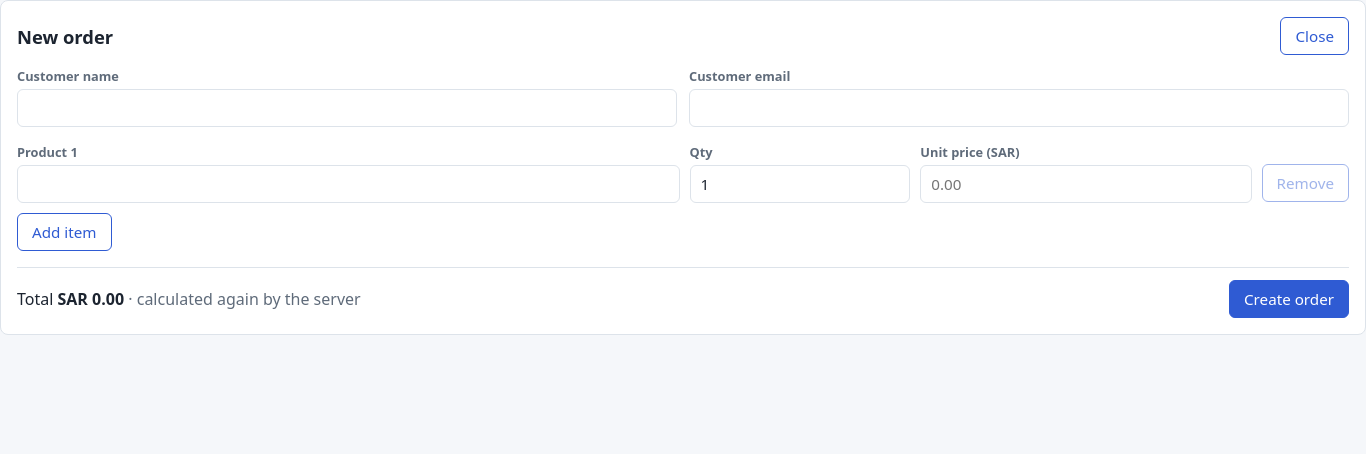
CreateOrderForm › after an uncertain failure, locks the form and retries with the SAME key and payload
Type "Sara Ali" into the field labelled "Customer name".
click(347, 108); type("Sara Ali")  # box [17,89,677,127]
Type "sara@example.com" into the field labelled "Customer email".
click(1019, 108); type("sara@example.com")  # box [689,89,1349,127]
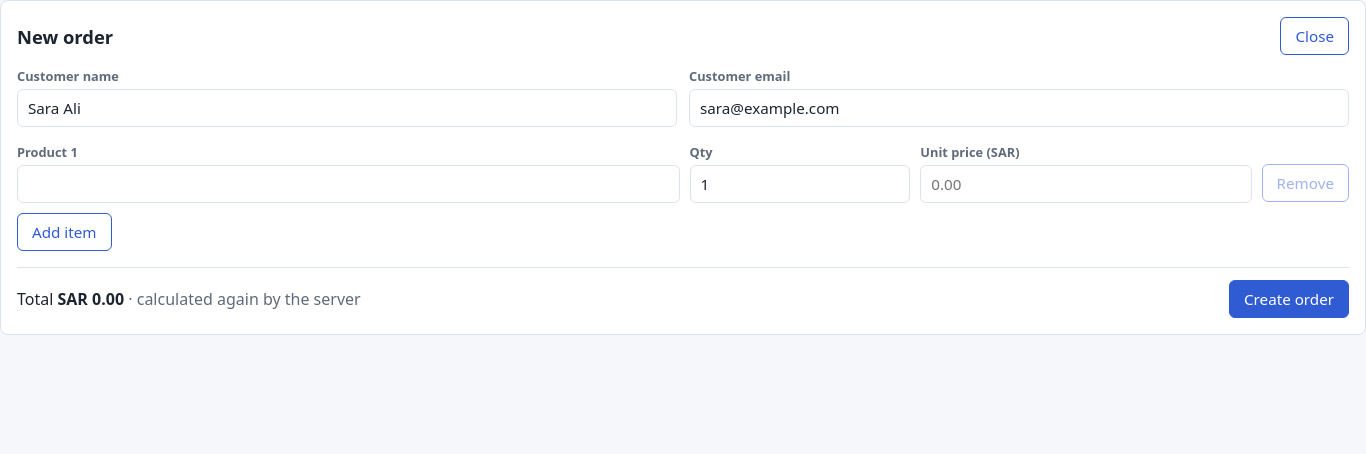
Type "Mouse" into the field labelled "Product 1".
click(348, 184); type("Mouse")  # box [17,165,680,203]
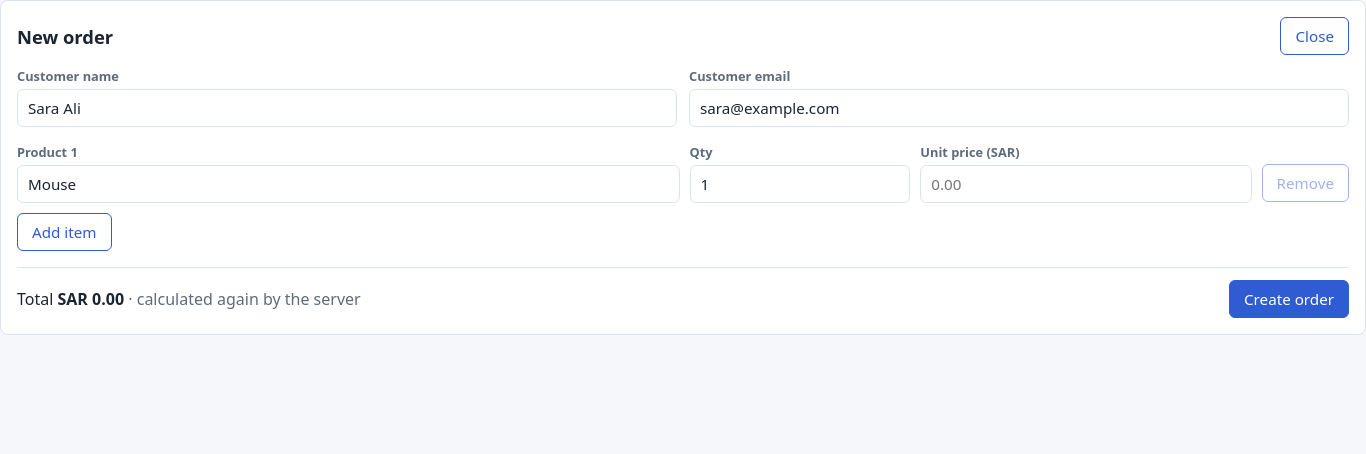
Replace the text in the field labelled "Qty" with "2" at (800, 184), box [690,165,910,203]
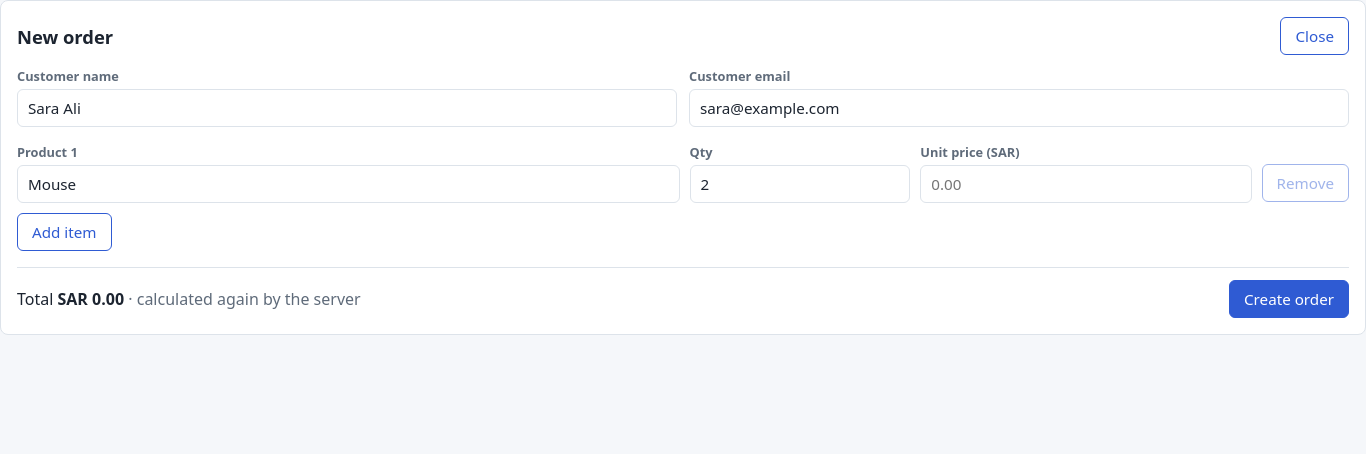
Type "24.99" into the field labelled "Unit price (SAR)".
click(1086, 184); type("24.99")  # box [920,165,1252,203]
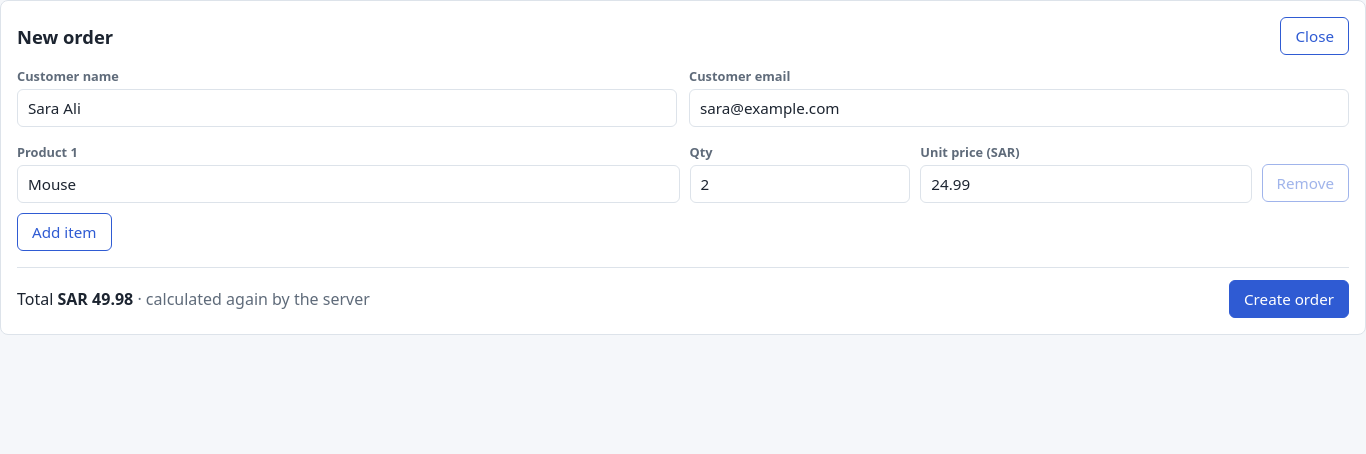
Click the button "Create order".
click(1289, 299)  # box [1229,280,1349,318]
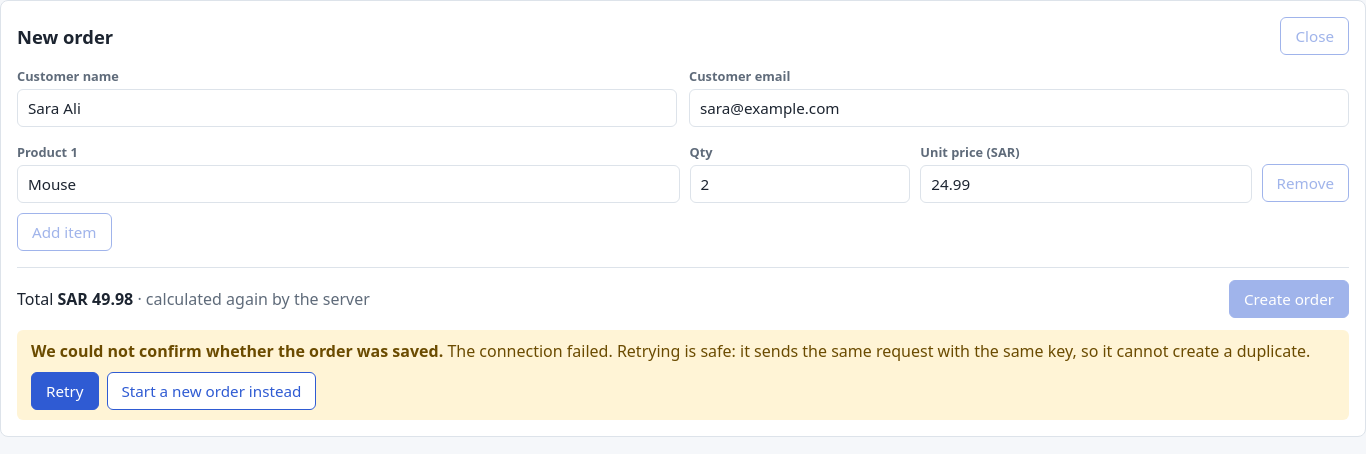
Expected: the message shows "could not confirm whether the order was saved", [31,340,443,362]
Click the button "Retry".
click(65, 391)  # box [31,372,98,410]
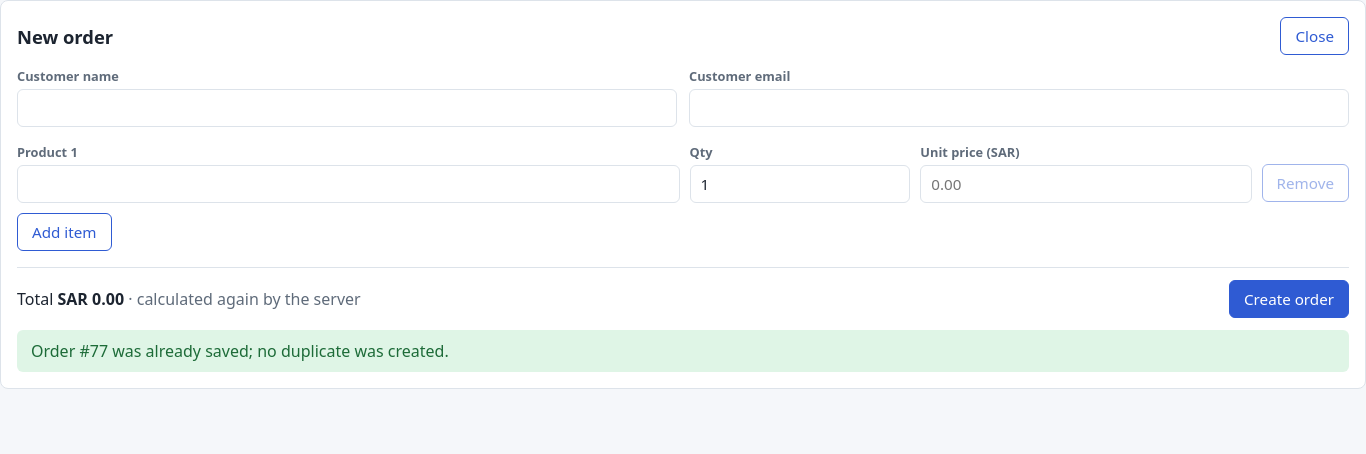
Expected: the message reads "Order #77 was already saved; no duplicate was created.", [31,340,449,362]
